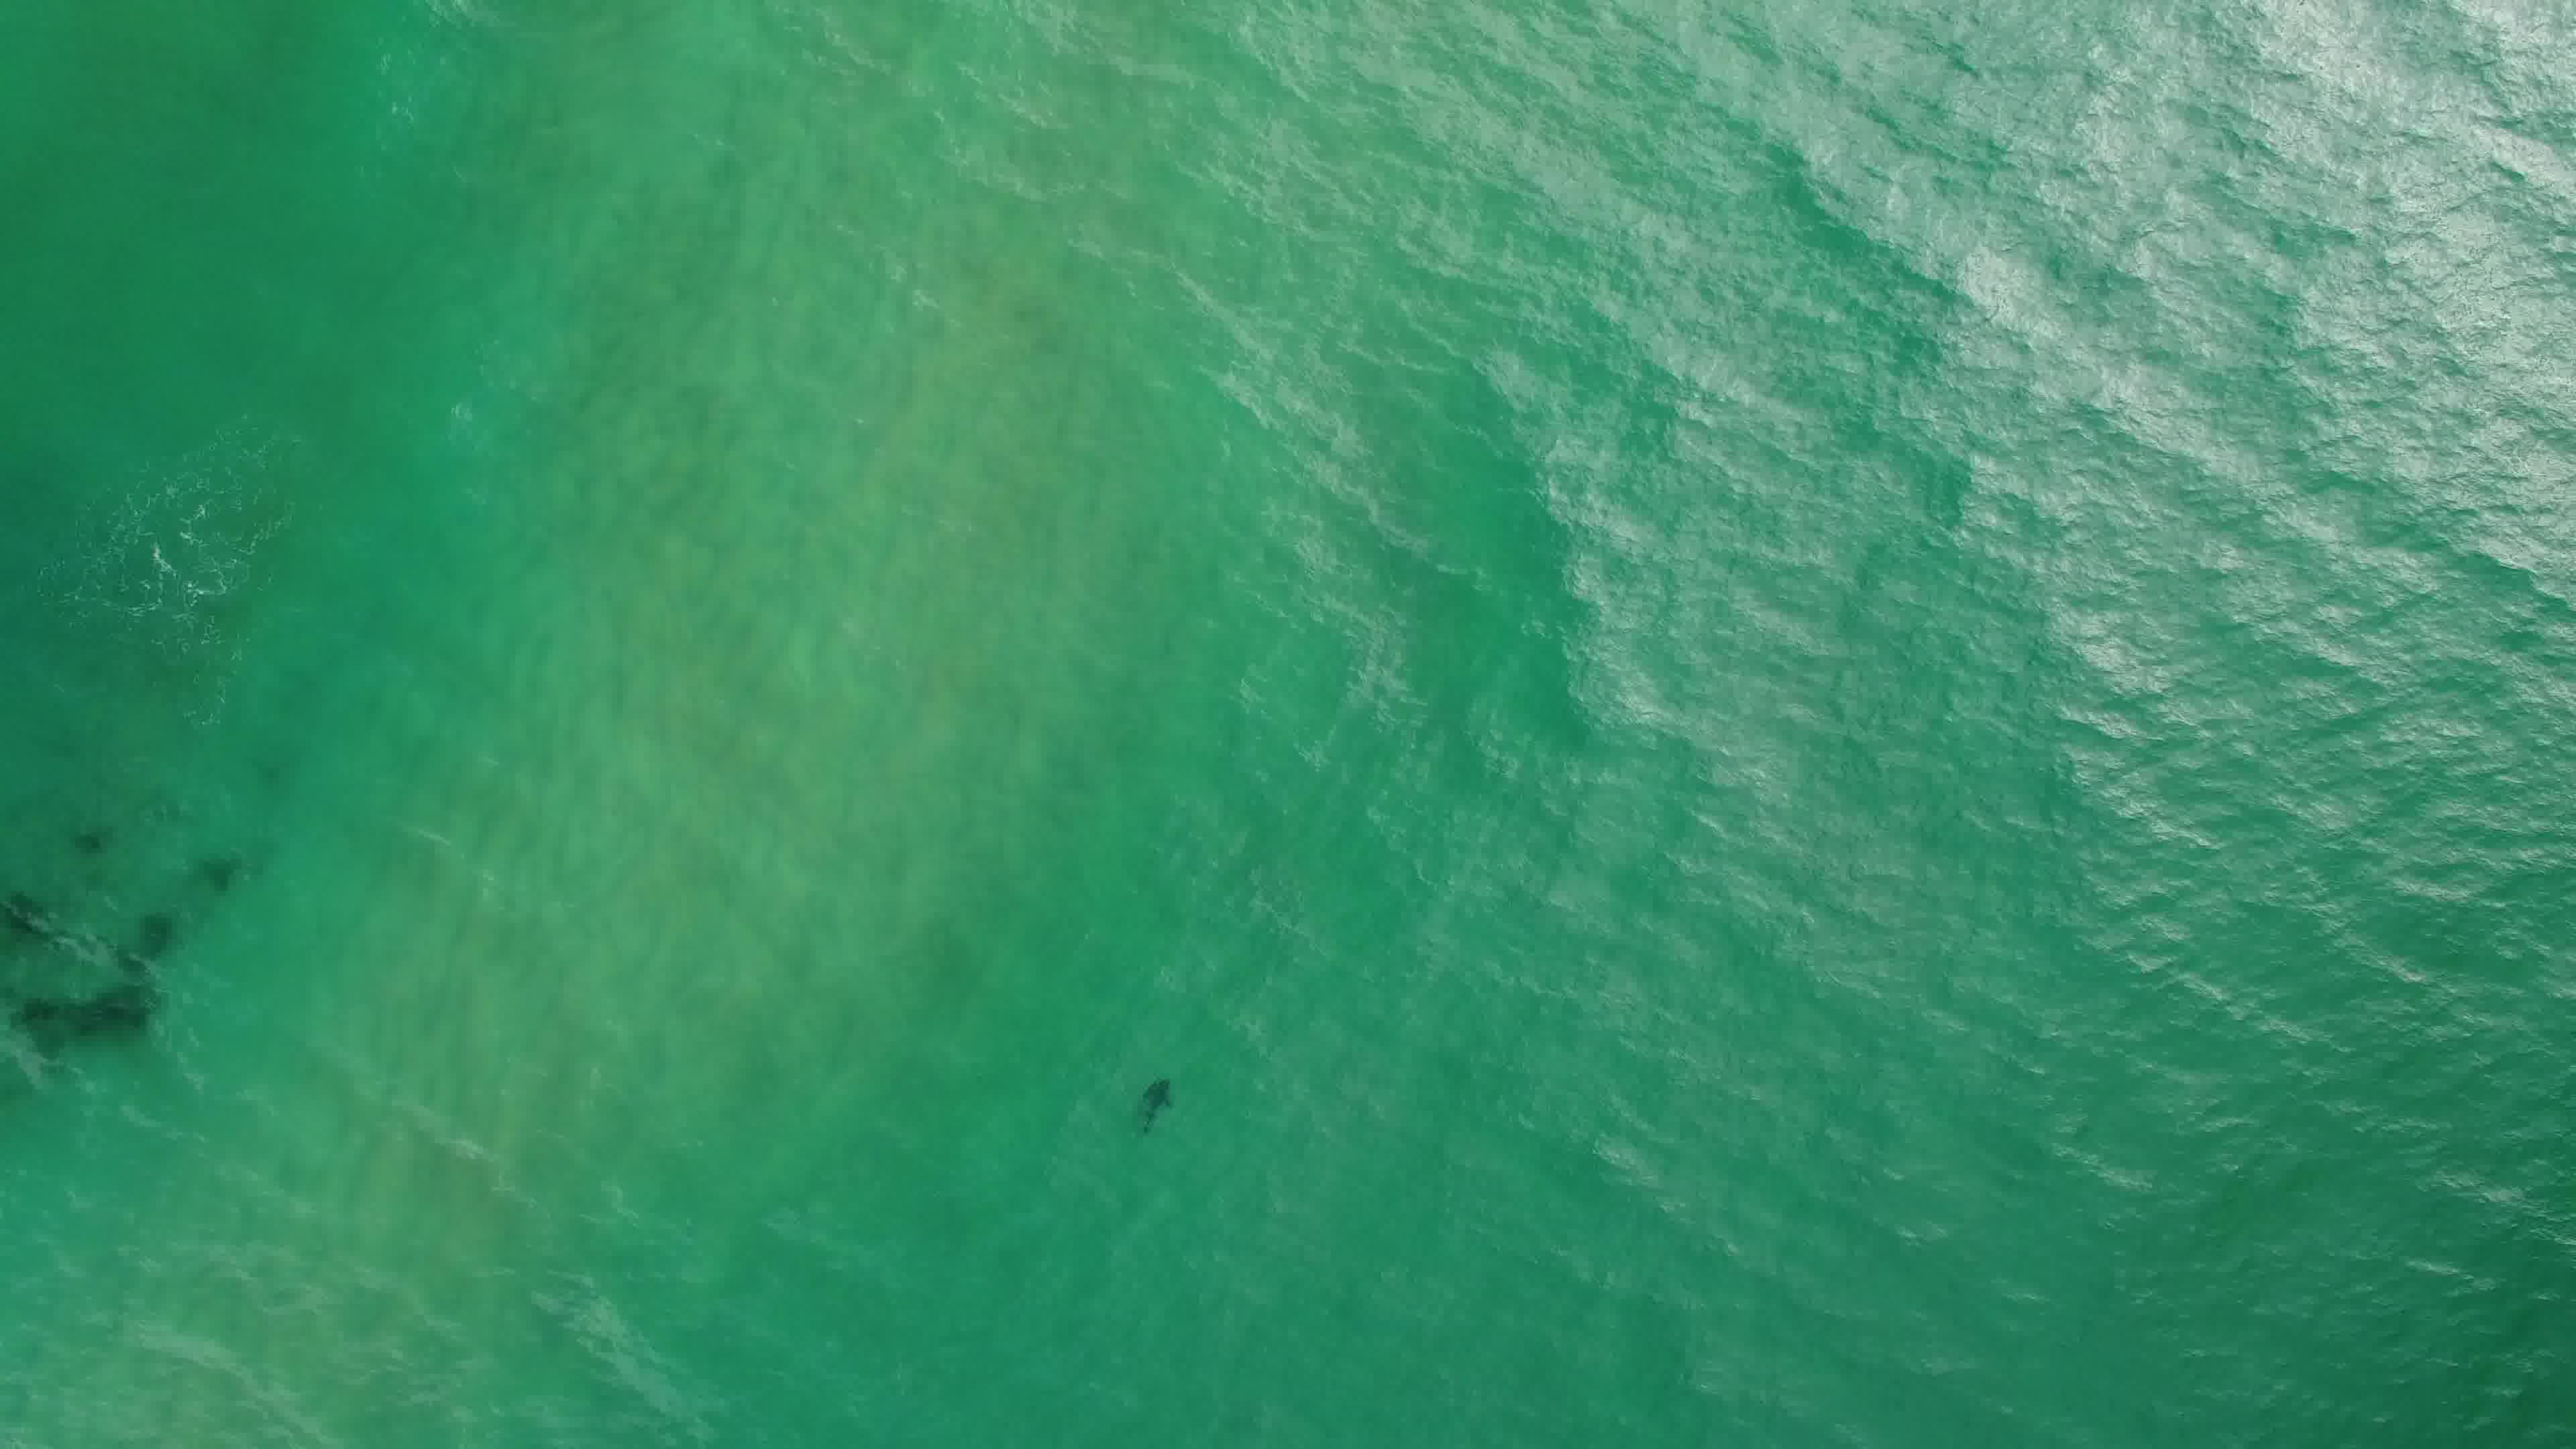shark: (1132, 1070, 1180, 1139)
